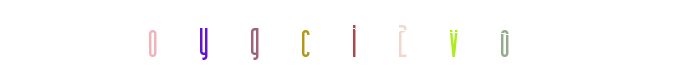1: (268, 0, 348, 80)
2: (310, 0, 390, 80)
C: (264, 0, 344, 80)
G: (248, 0, 328, 80)
O: (163, 0, 243, 80), (448, 0, 528, 80)
V: (413, 0, 493, 80)
Y: (164, 0, 244, 80)
